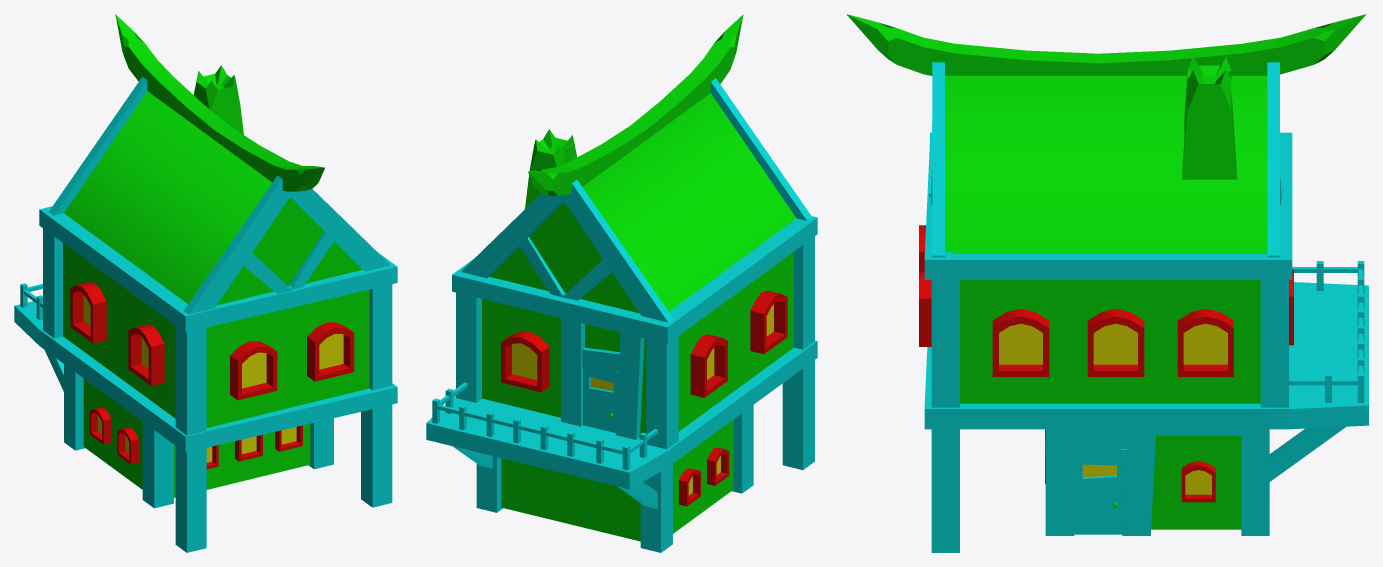
Rendered from building 2.fbx.
3 views of the same model, side by side, from view 1: azimuth 30°, elevation 25°; view 2: azimuth 150°, elevation 25°; view 3: azimuth 270°, elevation 25° (orthographic). The views are drawn at different scales.
Visible parts, largest first — view 1: building_2; view 2: building_2; view 3: building_2.
Part boxes in pixels (x1,y1,x2,y2): building_2: [14, 14, 397, 552]; building_2: [426, 14, 817, 552]; building_2: [846, 14, 1368, 552].
Bounding box in the file's own units: 1.85 × 3.14 × 3.12.
